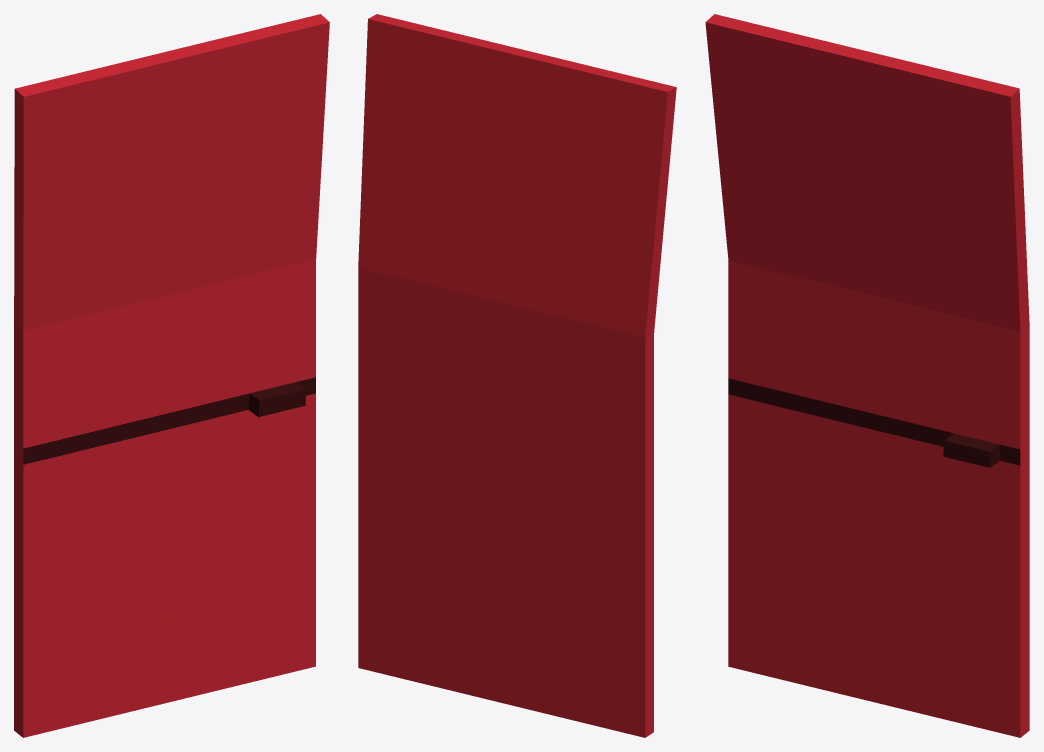
File: puertaCabina.fbx
3 renders of one model, left to right at view 1: azimuth 30°, elevation 25°; view 2: azimuth 150°, elevation 25°; view 3: azimuth 330°, elevation 25°, orthographic. The views are drawn at different scales.
Parts seen in each view (by area): view 1: CASETA_Puerta; view 2: CASETA_Puerta; view 3: CASETA_Puerta.
Part boxes in pixels (left/top/right/bottom): CASETA_Puerta: left=14, top=14, right=329, bottom=737; CASETA_Puerta: left=358, top=14, right=676, bottom=737; CASETA_Puerta: left=705, top=14, right=1029, bottom=737.
Bounding box in the file's own units: 315 × 644 × 37.39.
Materials: 1 (1 with a texture image).
